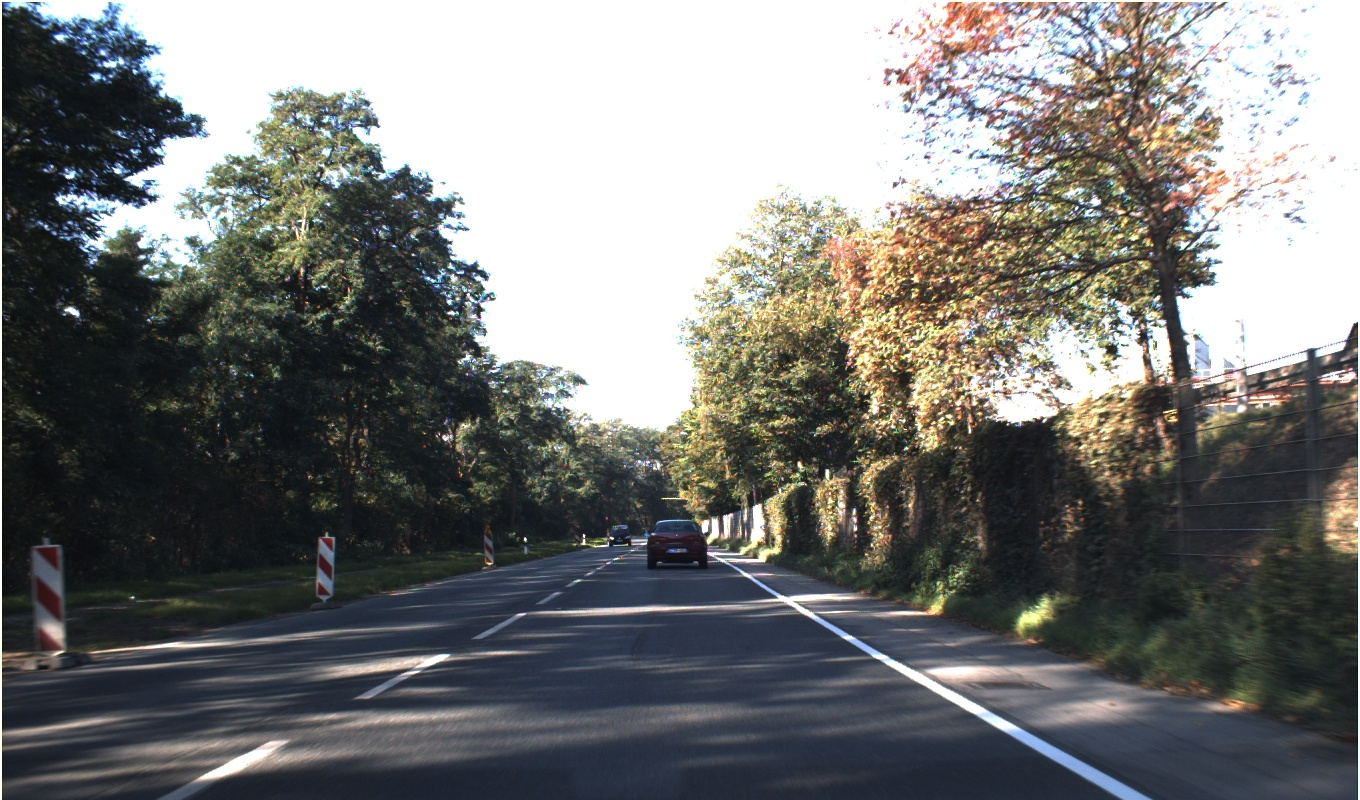car: (648, 504, 721, 595), (598, 524, 636, 550)
